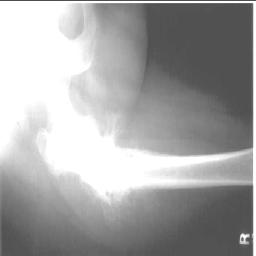cancer: (37, 90, 166, 225)
